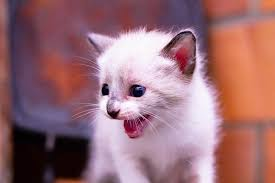cat: (63, 12, 230, 183)
